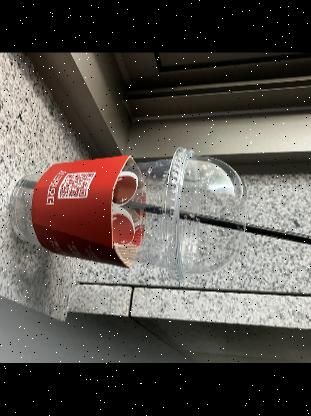Others: (9, 147, 250, 282), (112, 175, 311, 250), (160, 144, 248, 281)
